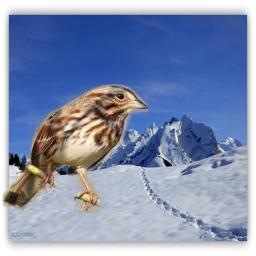Sparrow: (2, 84, 148, 214)
